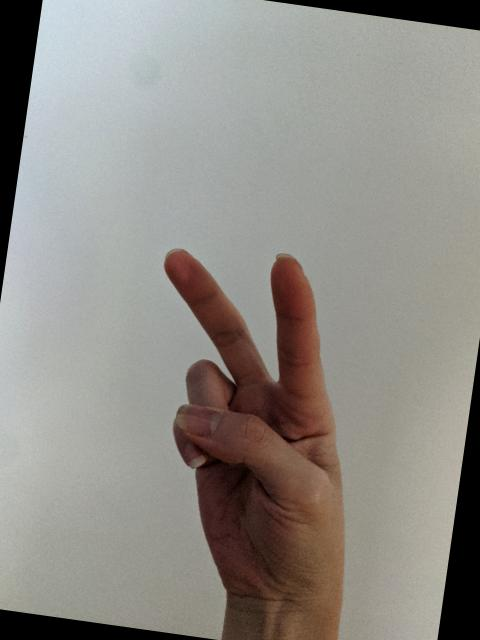V: (114, 233, 393, 615)
